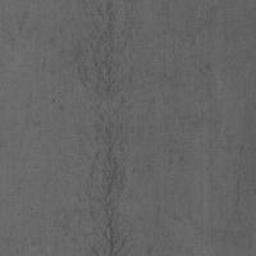Water spot: (79, 0, 136, 256)
